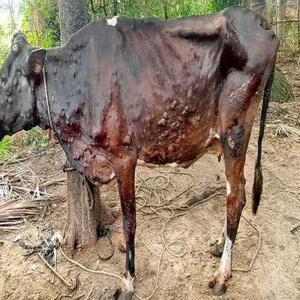lumpy skin diesease: (0, 5, 280, 299)
